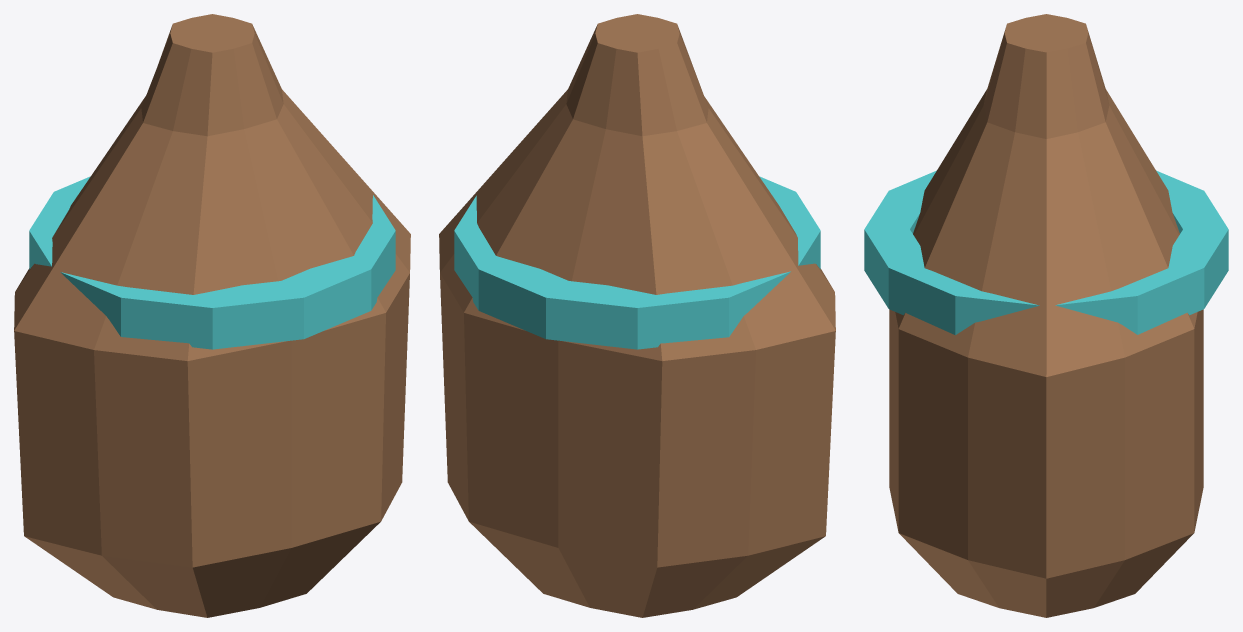
The model's file is reveal_dust.fbx.
3 views of the same model, side by side, from view 1: azimuth 30°, elevation 25°; view 2: azimuth 150°, elevation 25°; view 3: azimuth 270°, elevation 25° (orthographic).
Visible parts, largest first — view 1: vessel.001, seal.001; view 2: vessel.001, seal.001; view 3: vessel.001, seal.001.
Boxes of the visible parts, x1=… form: vessel.001: x1=14, y1=14, x2=410, y2=617; seal.001: x1=29, y1=176, x2=395, y2=349; vessel.001: x1=439, y1=14, x2=835, y2=617; seal.001: x1=454, y1=176, x2=820, y2=349; vessel.001: x1=889, y1=14, x2=1203, y2=617; seal.001: x1=864, y1=170, x2=1228, y2=335.
Size of the model in its own units: 40 by 52 by 32.
